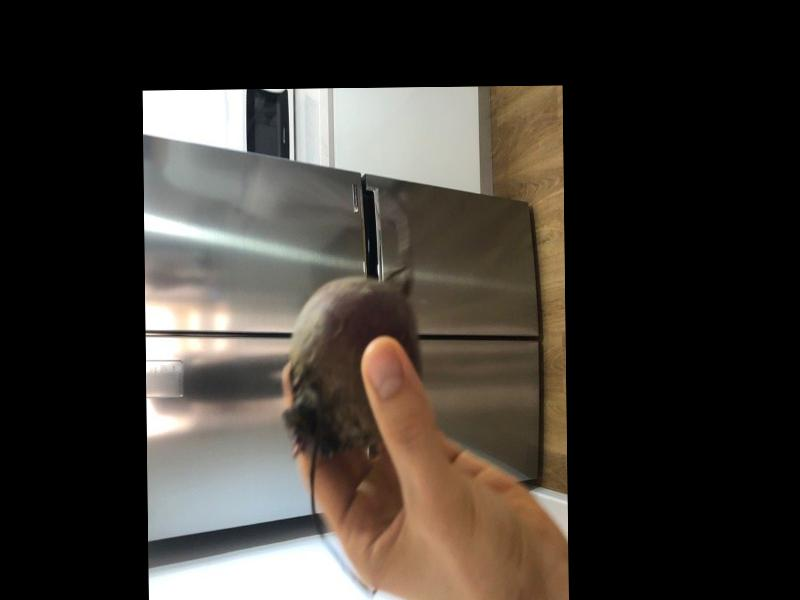Beet: (281, 245, 422, 596)
